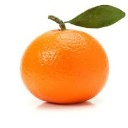orange: (20, 15, 112, 106)
